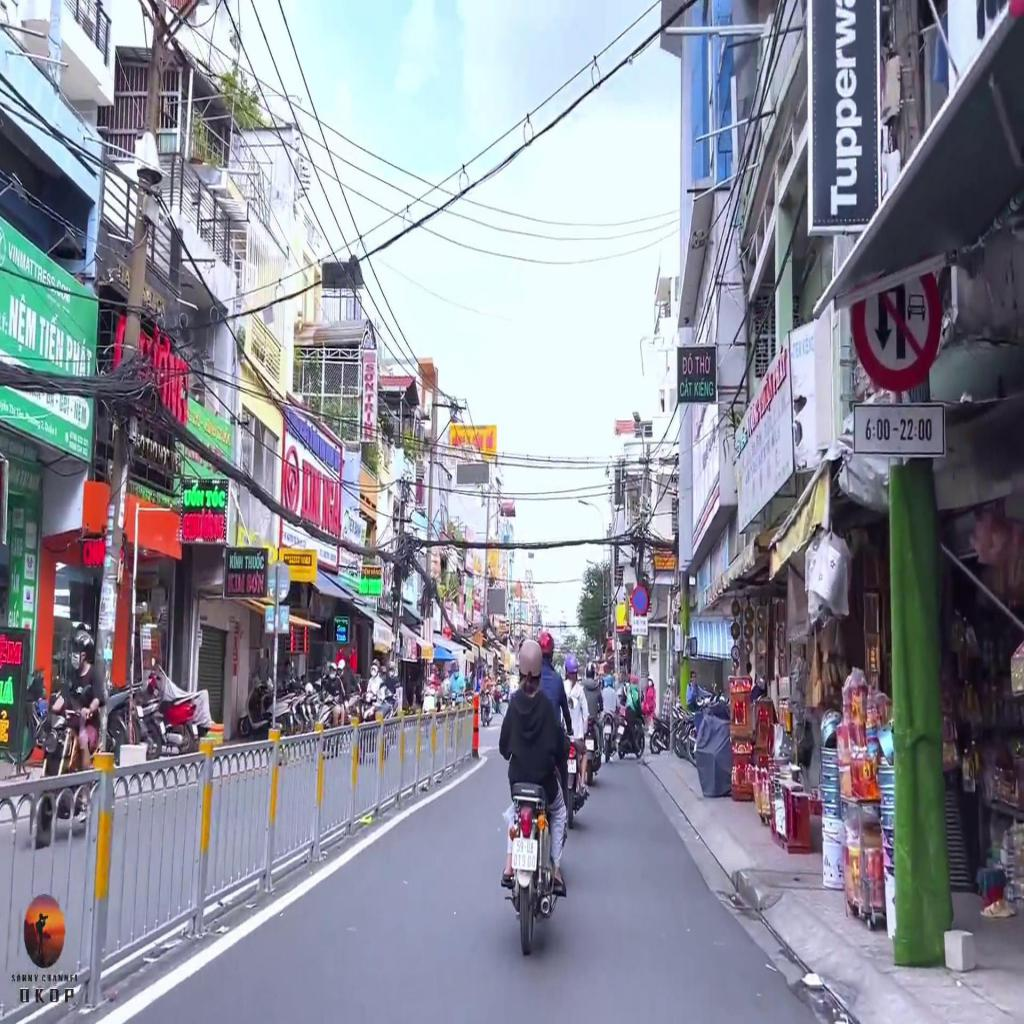cam_dung_xe_va_do_xe: (632, 586, 649, 614)
cam_o_to_quay_dau_xe: (847, 265, 939, 389)
khac: (852, 403, 947, 455), (632, 616, 648, 636)
